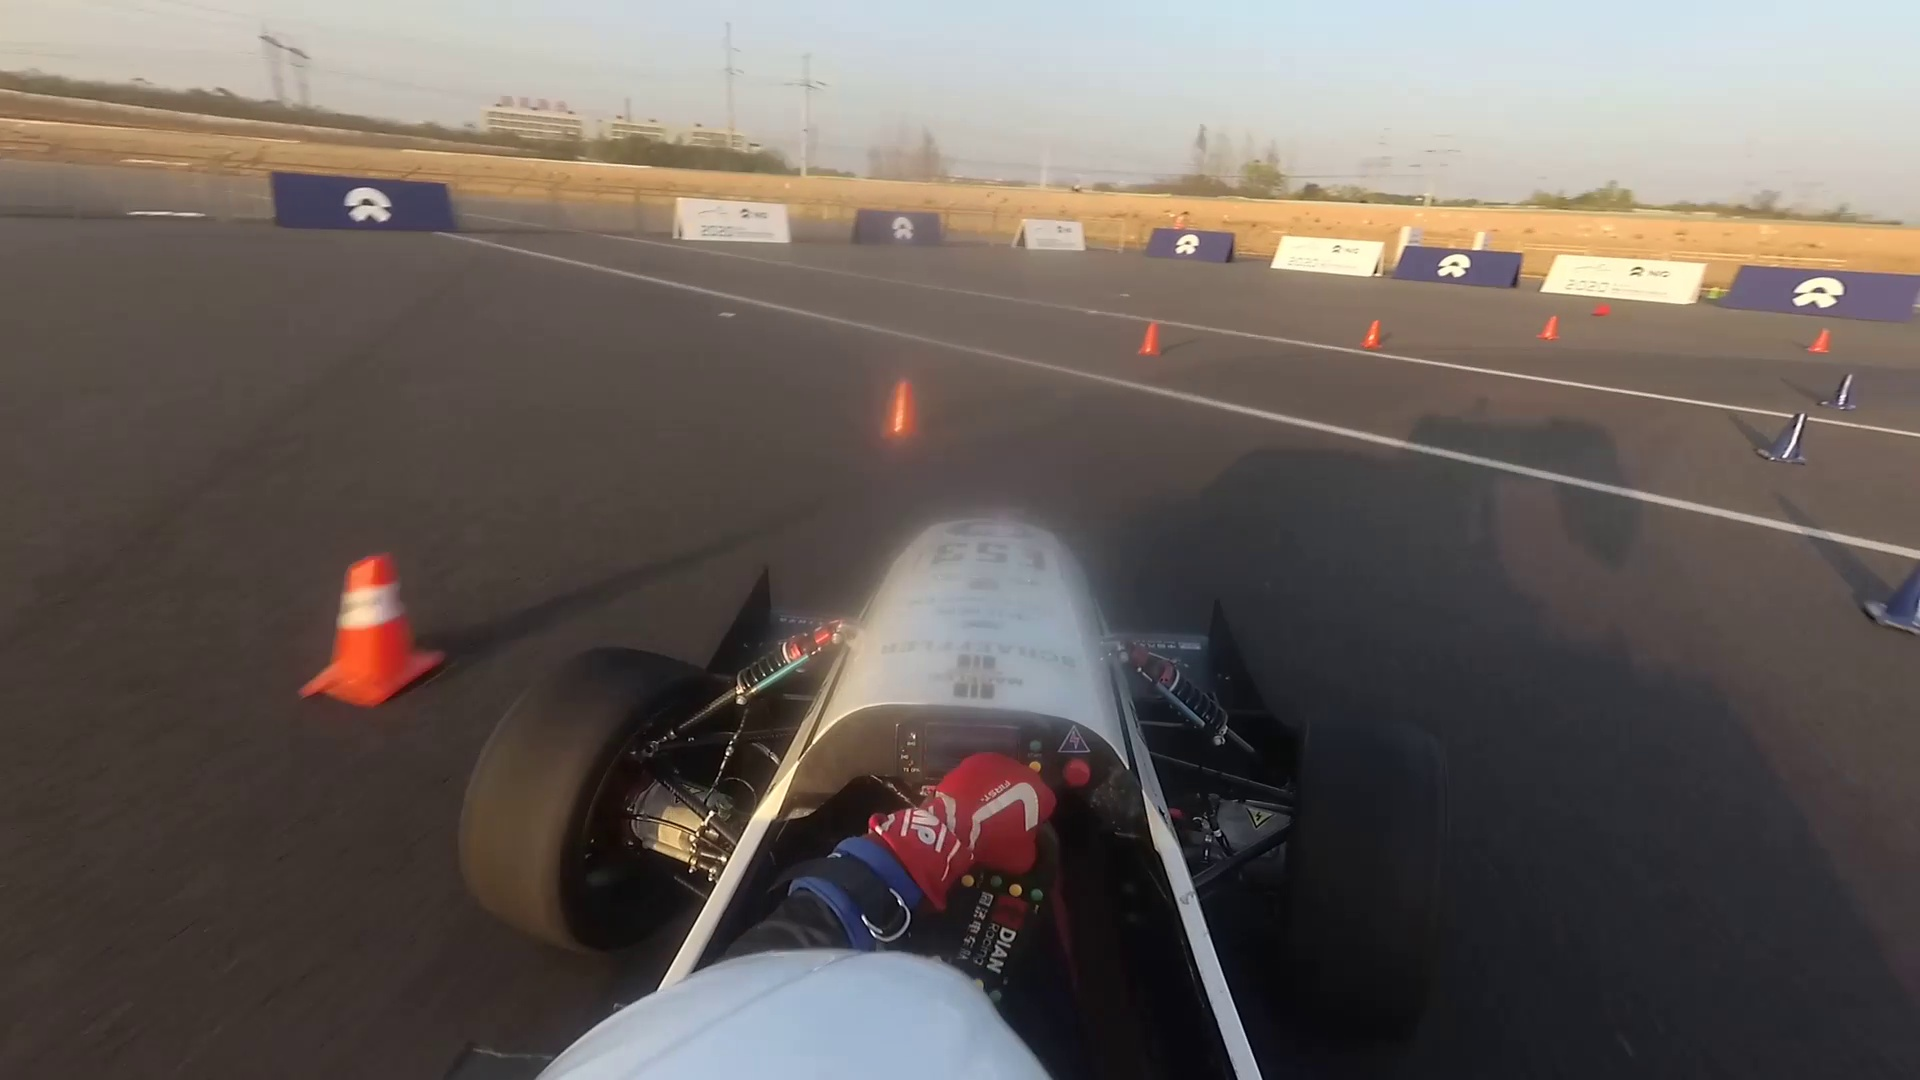red_cone: (282, 541, 454, 728), (1859, 554, 1919, 645), (868, 367, 934, 444), (1759, 414, 1822, 462), (1357, 318, 1395, 360), (1524, 305, 1561, 343), (1138, 318, 1164, 371), (1824, 371, 1857, 411), (1805, 326, 1834, 357), (1589, 301, 1613, 318)
